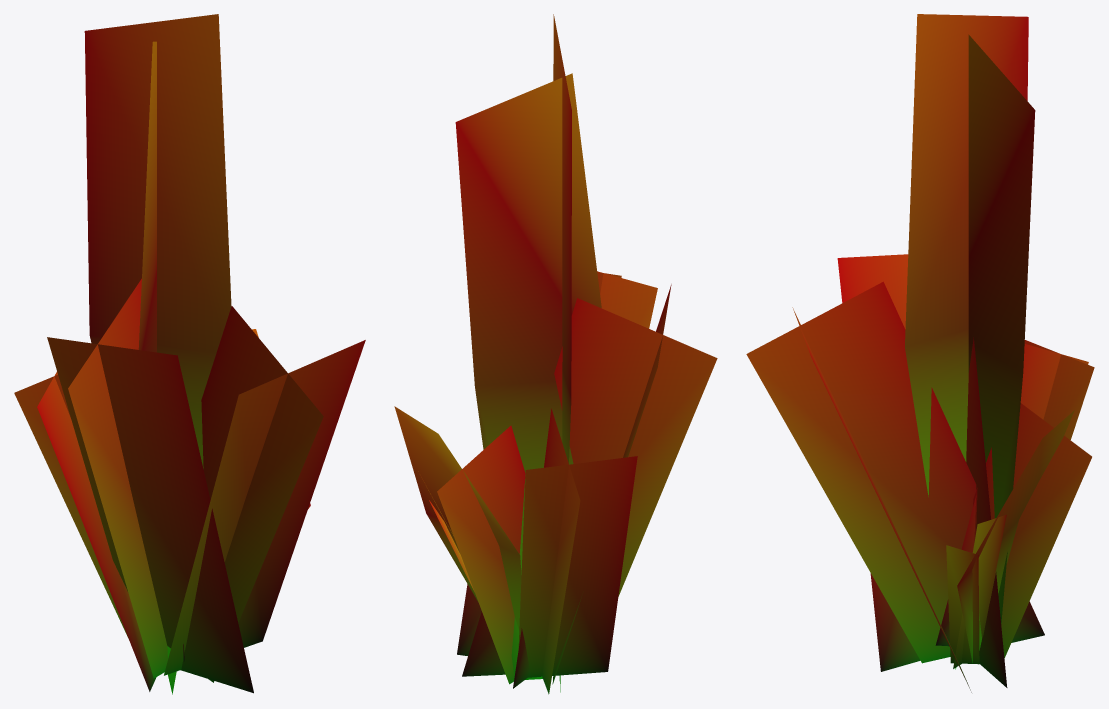
The model's file is Dead Broom Bush_LOD2_Var4_tlpjdhwia.fbx.
The picture shows the model from 3 angles, left to right: view 1: azimuth 30°, elevation 25°; view 2: azimuth 150°, elevation 25°; view 3: azimuth 270°, elevation 25°; orthographic projection. The views are drawn at different scales.
Parts seen in each view (by area): view 1: _c446_Var4_LOD2; view 2: _c446_Var4_LOD2; view 3: _c446_Var4_LOD2.
Boxes of the visible parts, x1=… form: _c446_Var4_LOD2: x1=14, y1=14, x2=365, y2=694; _c446_Var4_LOD2: x1=394, y1=14, x2=717, y2=694; _c446_Var4_LOD2: x1=746, y1=14, x2=1094, y2=692.
Bounding box in the file's own units: 15.66 × 36.64 × 17.29.
